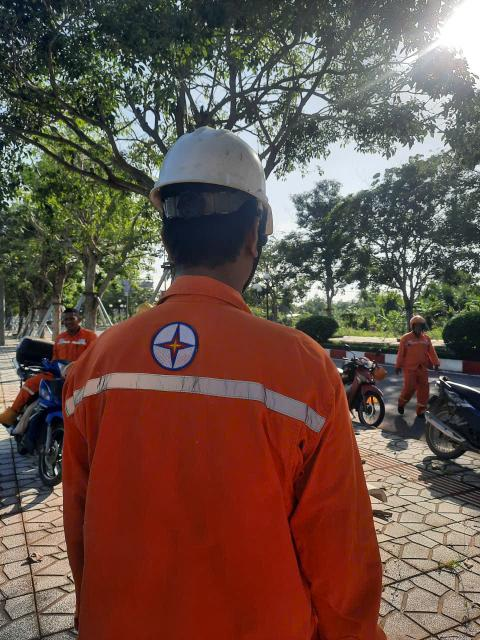helmet: (145, 118, 296, 245), (408, 312, 429, 329), (372, 364, 391, 382)
shoes: (0, 395, 19, 435), (395, 402, 408, 420), (415, 409, 433, 421)
